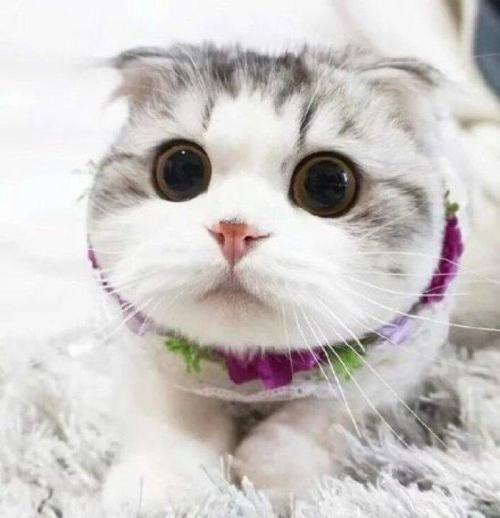cat: (85, 36, 476, 364)
